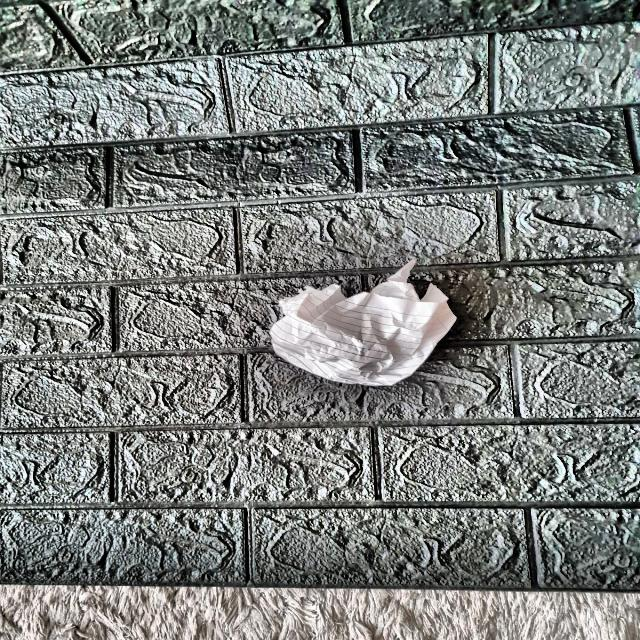Paper: (257, 276, 451, 382)
